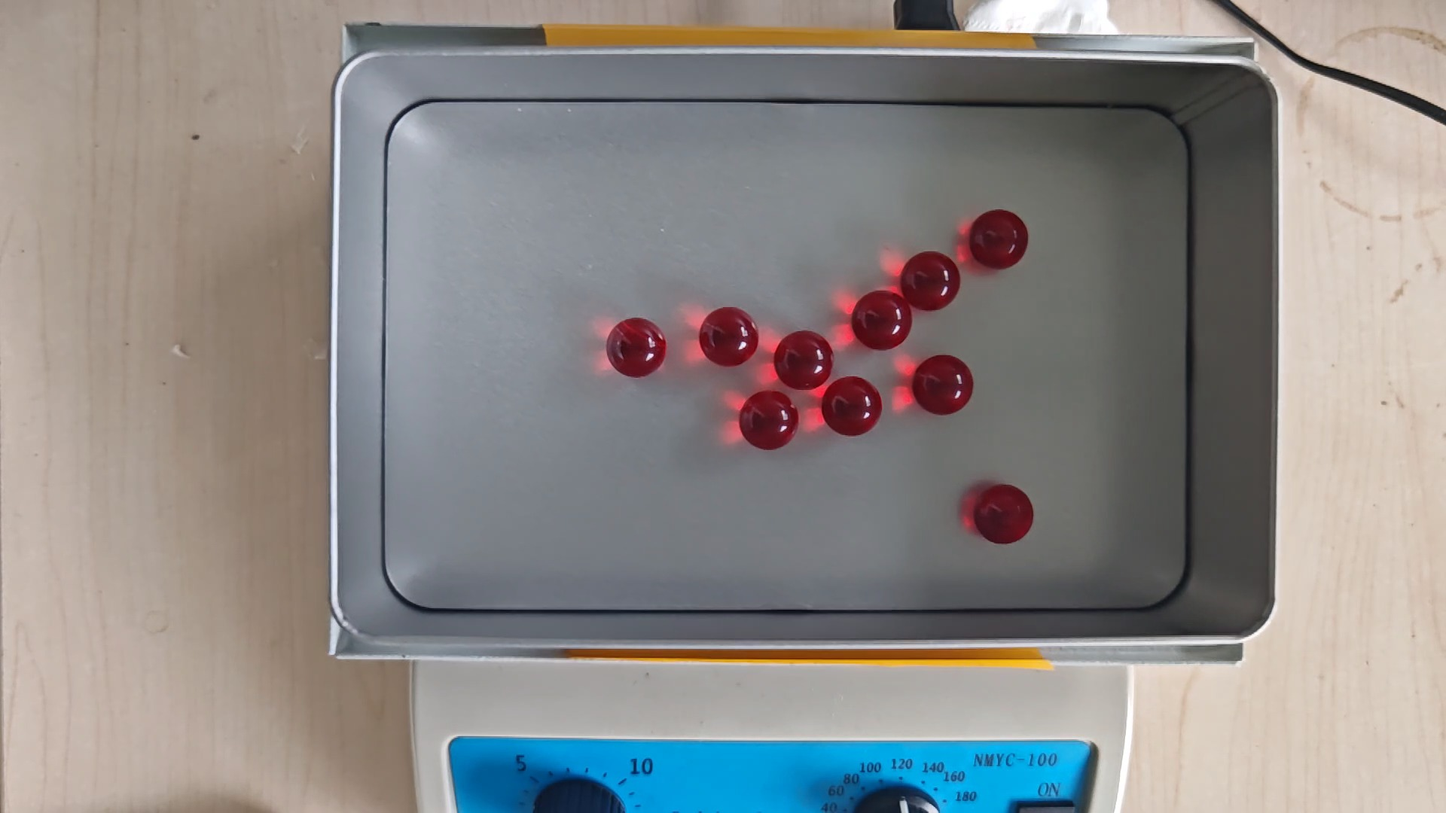ball: (913, 353, 974, 416), (739, 390, 799, 452), (974, 484, 1034, 545), (607, 317, 666, 379), (852, 290, 911, 351), (823, 376, 882, 437), (970, 208, 1028, 270), (699, 307, 758, 367), (902, 251, 961, 310), (774, 331, 833, 390)
container: (383, 101, 1189, 611)
